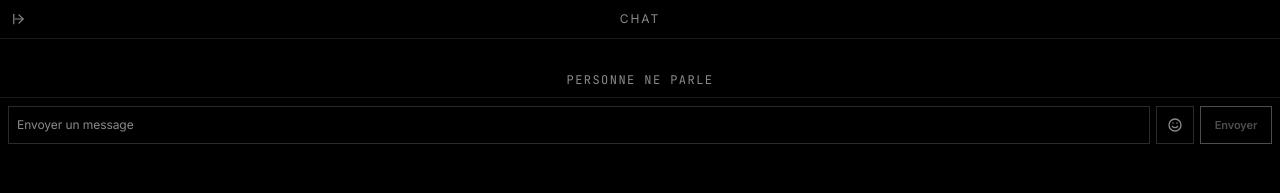
Test: Chat · commandes de modération › /unfreeze dégèle le chat via chat_set_settings
Expected: the text "personne ne parle" is shown, top-left (566, 72), bottom-right (713, 88)
Type "/unfreeze" into the field.
click(579, 125); type("/unfreeze")  # box top-left (8, 106), bottom-right (1150, 144)
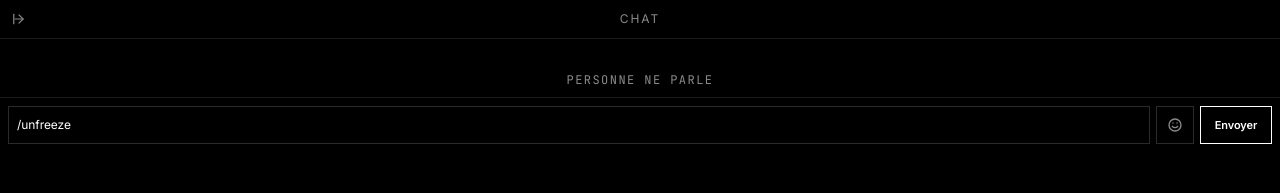
Click the button "Envoyer".
click(1236, 125)  # box top-left (1200, 106), bottom-right (1272, 144)
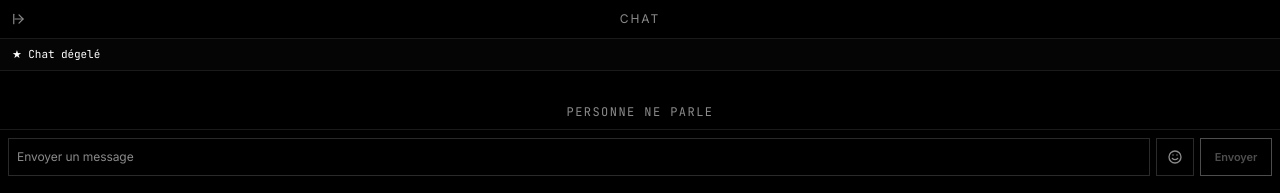
Result: the text "★ Chat dégelé" is shown at top-left (0, 39), bottom-right (1279, 71)
